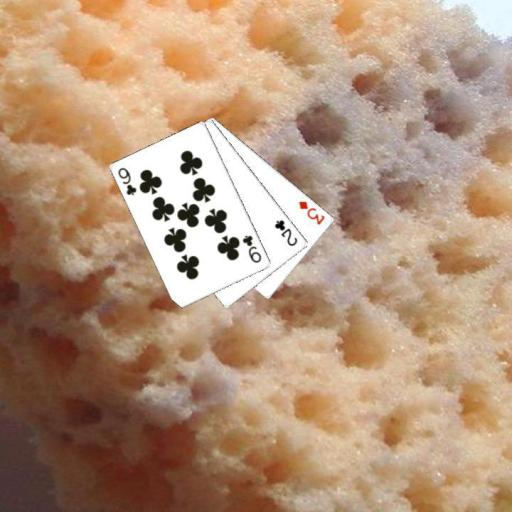2C: (272, 217, 299, 247)
3D: (296, 198, 327, 226)
9C: (115, 164, 138, 197), (240, 232, 263, 264)
